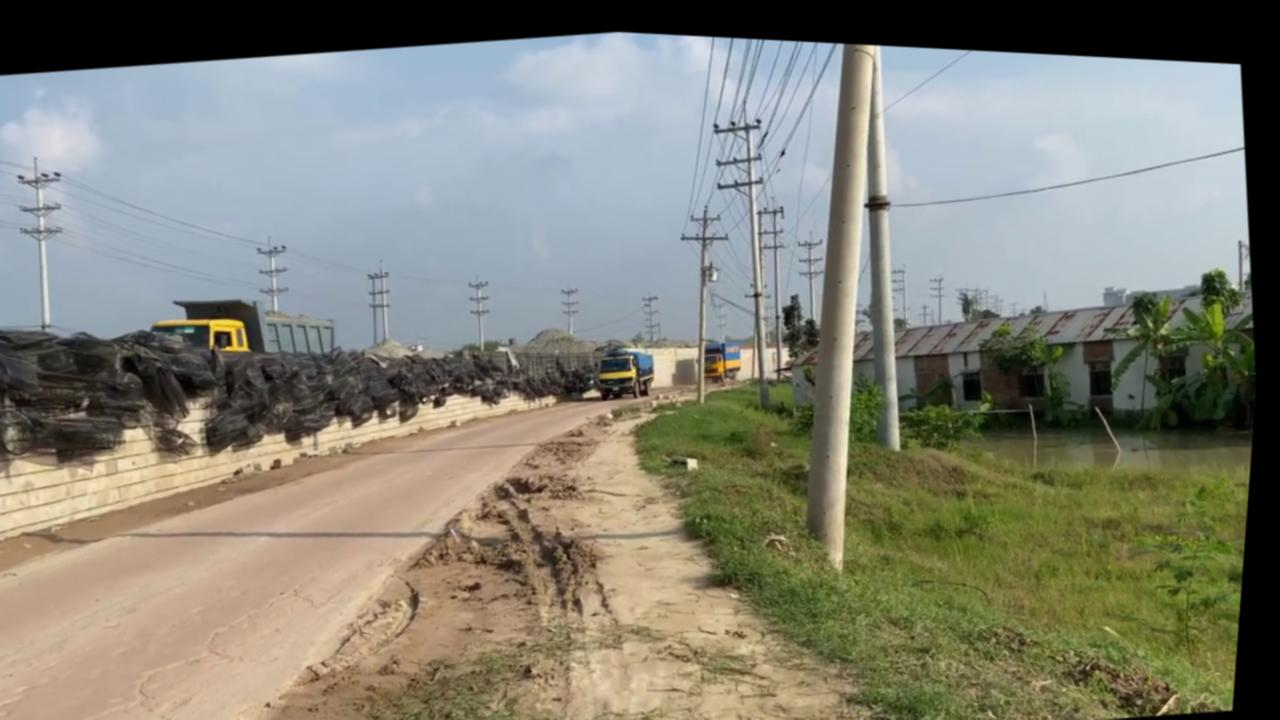Garbage: (0, 253, 608, 494)
Obstacle: (780, 252, 1267, 463)
Pole: (747, 32, 943, 566), (828, 35, 932, 444)
Rickshaw: (174, 340, 918, 720)
Sidewalk: (953, 380, 1260, 504)
Tree: (0, 294, 271, 472), (148, 277, 345, 372), (151, 306, 259, 363), (592, 327, 664, 396), (704, 331, 750, 378)
Upstairs: (0, 339, 586, 571)
